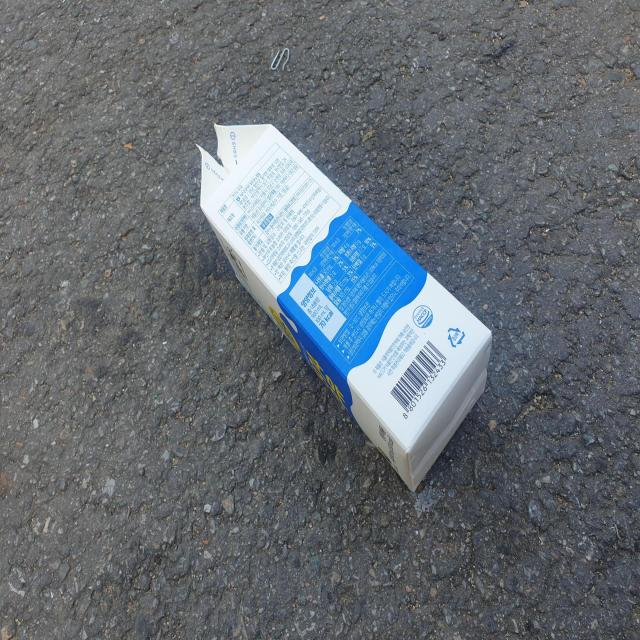paperpack: (201, 125, 492, 491)
